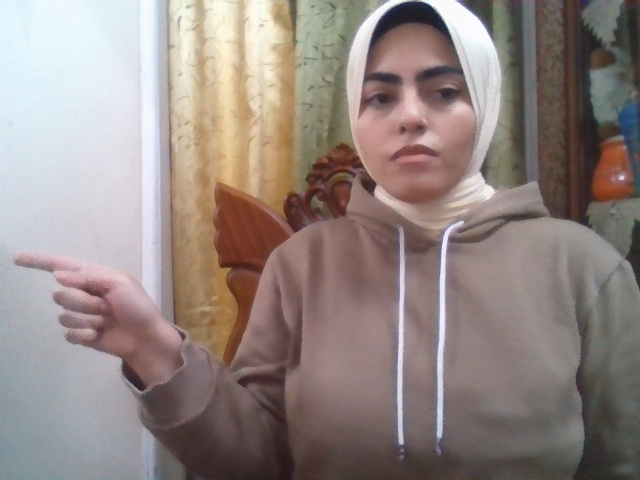G: (13, 250, 159, 363)
